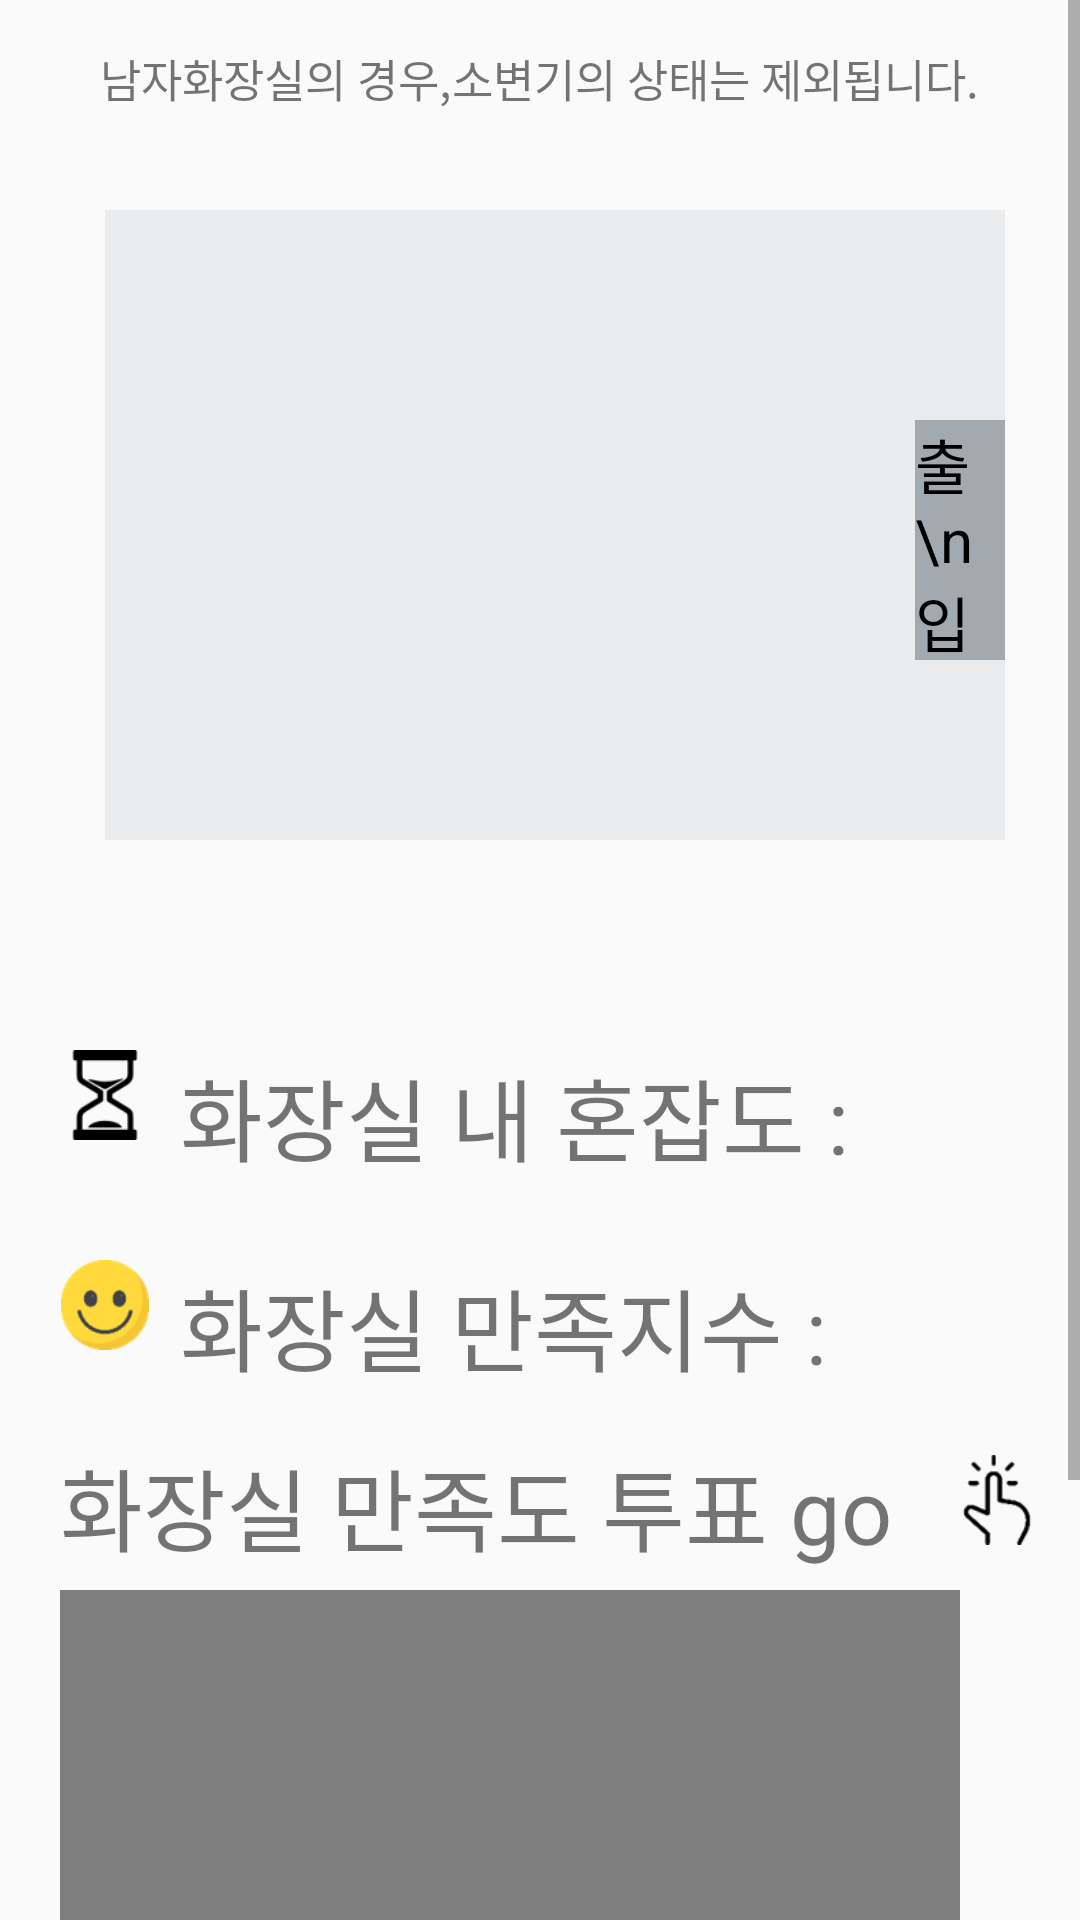

Icon click points for this 1080w x 1920h phone screenshot, format [x,y]:
click: [997,1500]
smile: [105,1305]
waiting: [105,1095]
